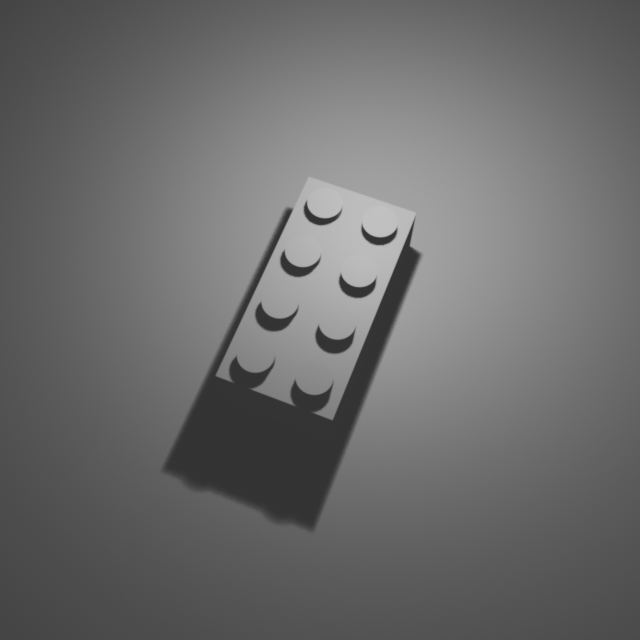lego_2x4: (214, 170, 418, 441)
